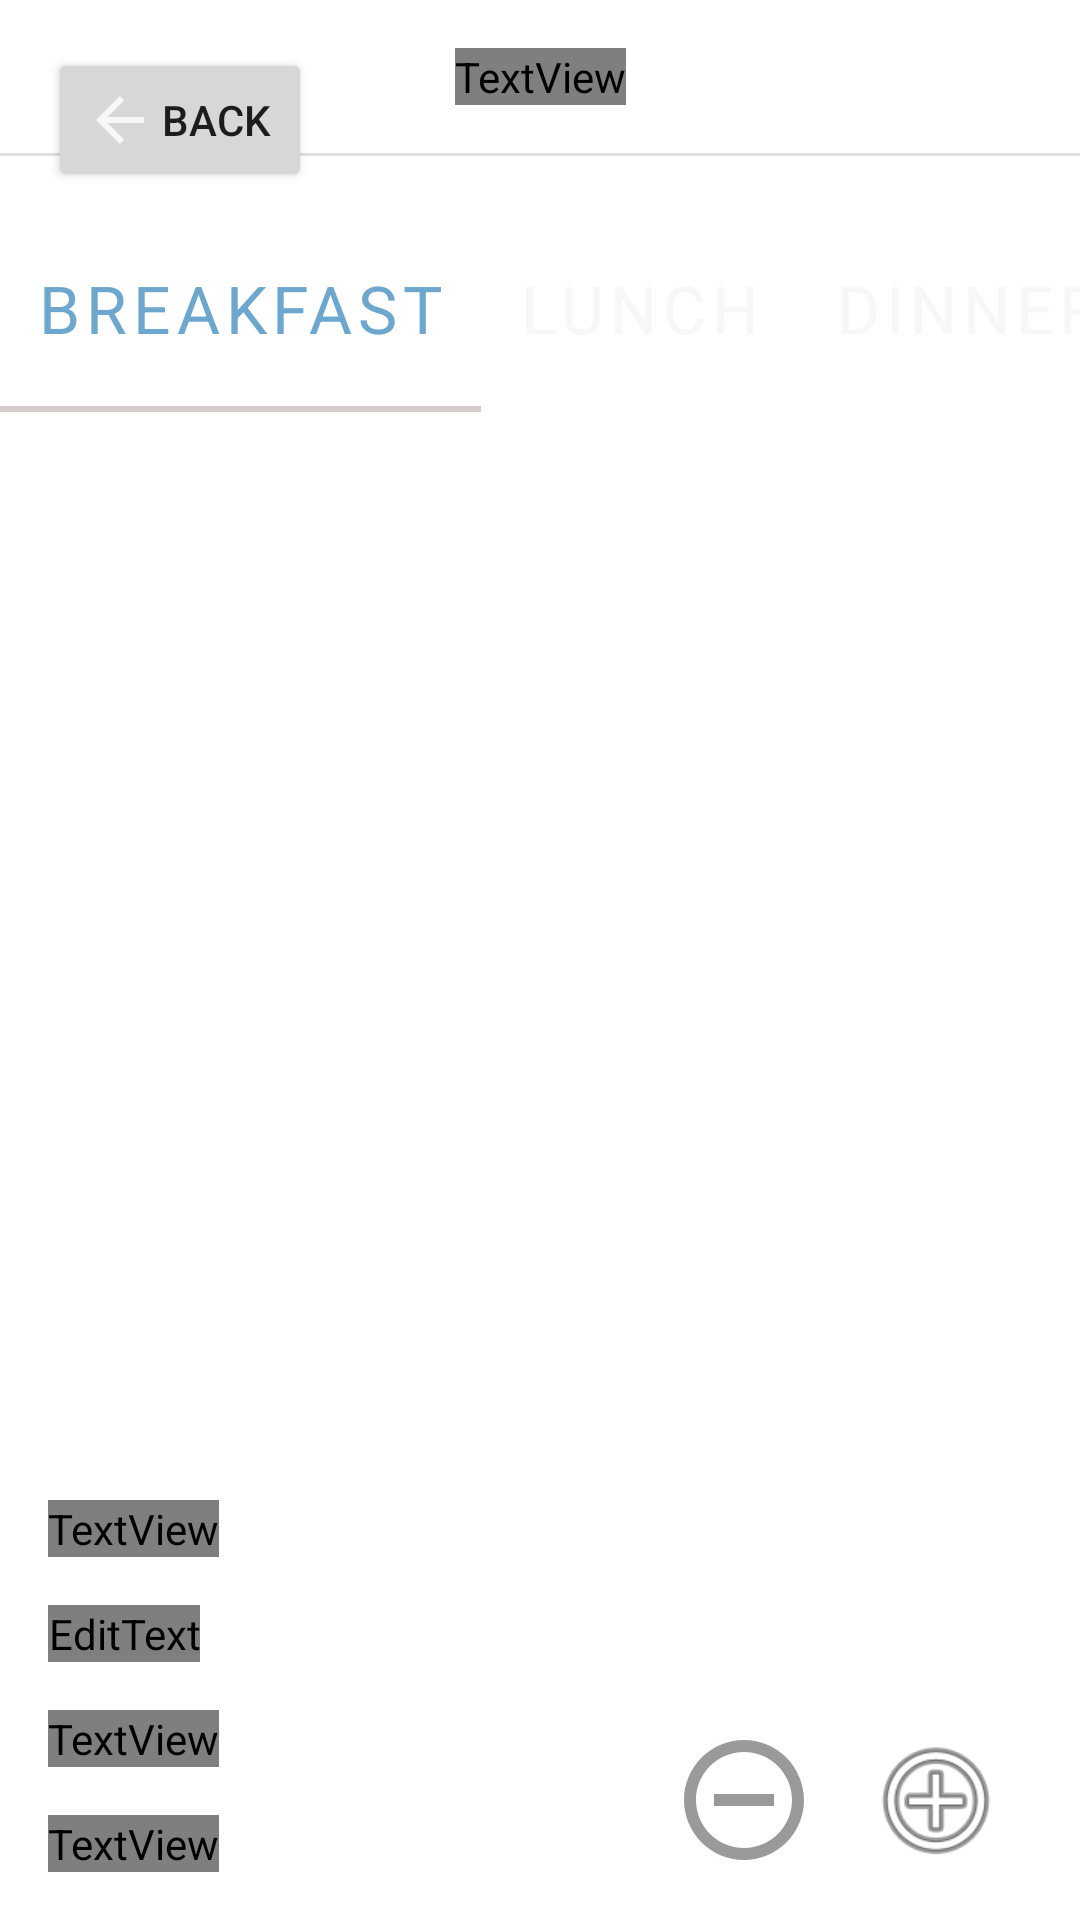

Icon bounding boxes for this 1080 × 1920 phone screenshot, format box(x1, y1, x2, y2):
add water: box(882, 1747, 990, 1854)
remove: box(684, 1740, 804, 1860)
